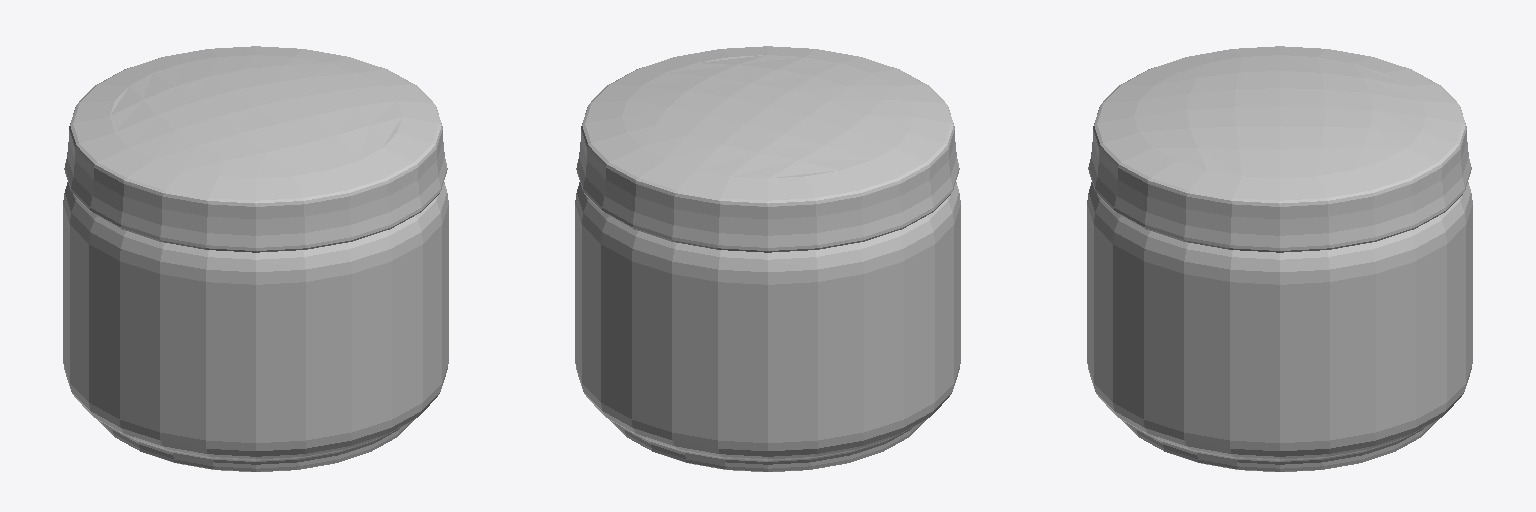
File: pkgtype8.obj
3 renders of one model, left to right at view 1: azimuth 30°, elevation 25°; view 2: azimuth 150°, elevation 25°; view 3: azimuth 270°, elevation 25°, orthographic.
Visible parts, largest first — view 1: glass_jar_300_ml, jar_lid_300_ml; view 2: glass_jar_300_ml, jar_lid_300_ml; view 3: glass_jar_300_ml, jar_lid_300_ml.
Part boxes in pixels (x1,y1,x2,y2): glass_jar_300_ml: (63,182,448,471); jar_lid_300_ml: (64,46,447,252); glass_jar_300_ml: (575,182,960,471); jar_lid_300_ml: (576,46,959,252); glass_jar_300_ml: (1087,182,1472,471); jar_lid_300_ml: (1088,46,1471,252).
Bounding box in the file's own units: 10 × 8.56 × 10.